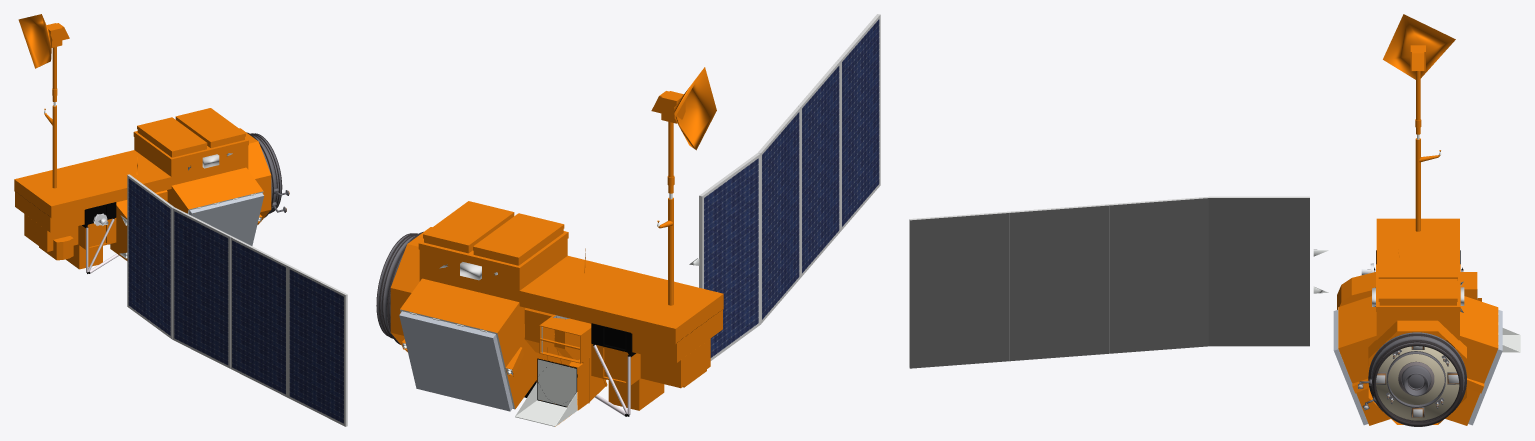
Rendered from landsat-4-and-5.glb.
3 views of the same model, side by side, from view 1: azimuth 30°, elevation 25°; view 2: azimuth 150°, elevation 25°; view 3: azimuth 270°, elevation 25° (orthographic). The views are drawn at different scales.
Visible parts, largest first — view 1: Cube.017, Cube.013, Cube.015, TM_Panels_1.004, Cube.004, Cylinder.007; view 2: Cube.013, Cube.017, Cube.015, TM_Panels_1.004, Cube.004, TM_Body.002, Cylinder.007; view 3: Cube.015, Cube.013, TM_Panels_1.004.
Boxes of the visible parts, x1,y1,x2,y2 form: Cube.017: [128, 178, 343, 423]; Cube.013: [14, 14, 271, 269]; Cube.015: [44, 102, 347, 426]; TM_Panels_1.004: [189, 193, 263, 245]; Cube.004: [34, 153, 232, 273]; Cylinder.007: [86, 219, 118, 273]; Cube.013: [390, 67, 723, 426]; Cube.017: [704, 19, 879, 357]; Cube.015: [376, 14, 880, 409]; TM_Panels_1.004: [399, 311, 512, 411]; Cube.004: [403, 258, 718, 416]; TM_Body.002: [515, 327, 577, 426]; Cylinder.007: [593, 345, 630, 415]; Cube.015: [909, 134, 1498, 426]; Cube.013: [1337, 14, 1498, 425]; TM_Panels_1.004: [1333, 310, 1502, 425].
Bounding box in the file's own units: 1.55 × 1.78 × 3.17.
8 materials, 6 textured.
